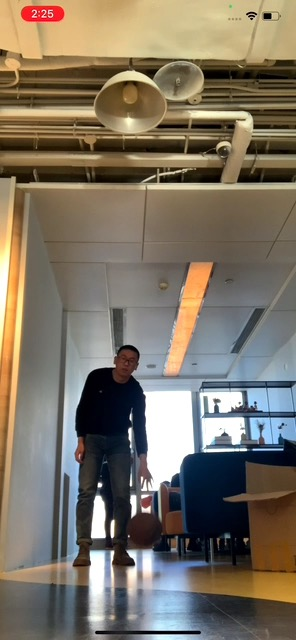ball: (126, 512, 164, 548)
